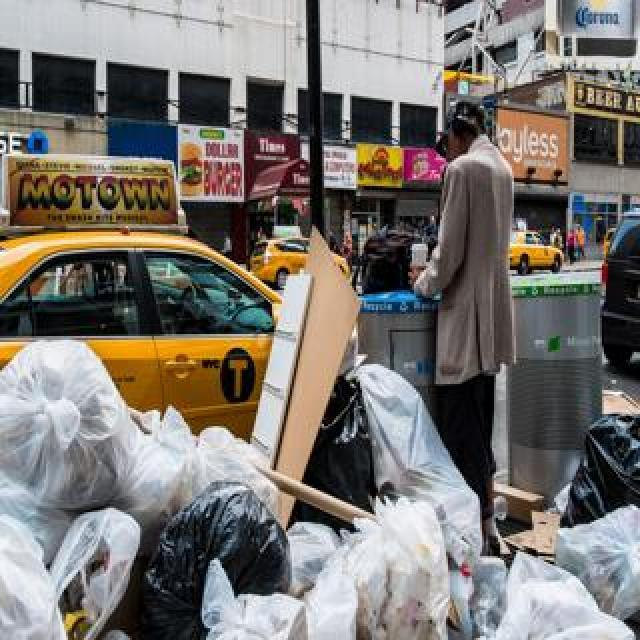high trash: (0, 235, 640, 640)
